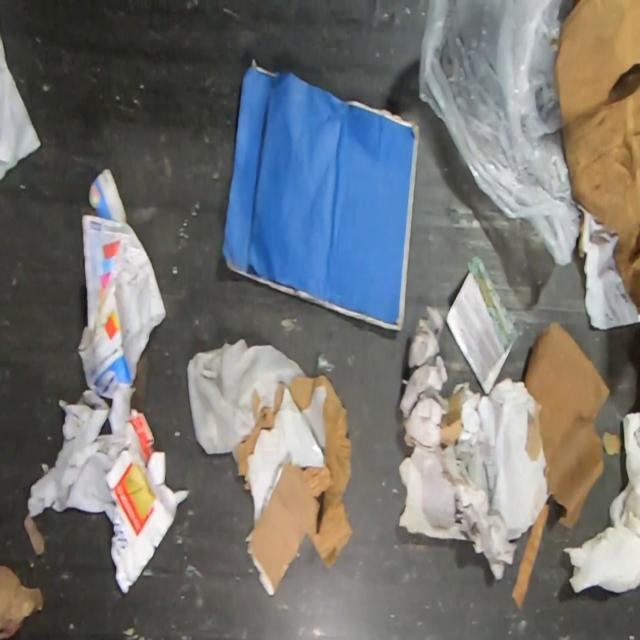cardboard: (216, 52, 421, 336), (438, 318, 611, 611), (555, 0, 640, 310), (234, 372, 352, 593), (602, 427, 622, 457)
soft_plastic: (419, 0, 582, 267)
